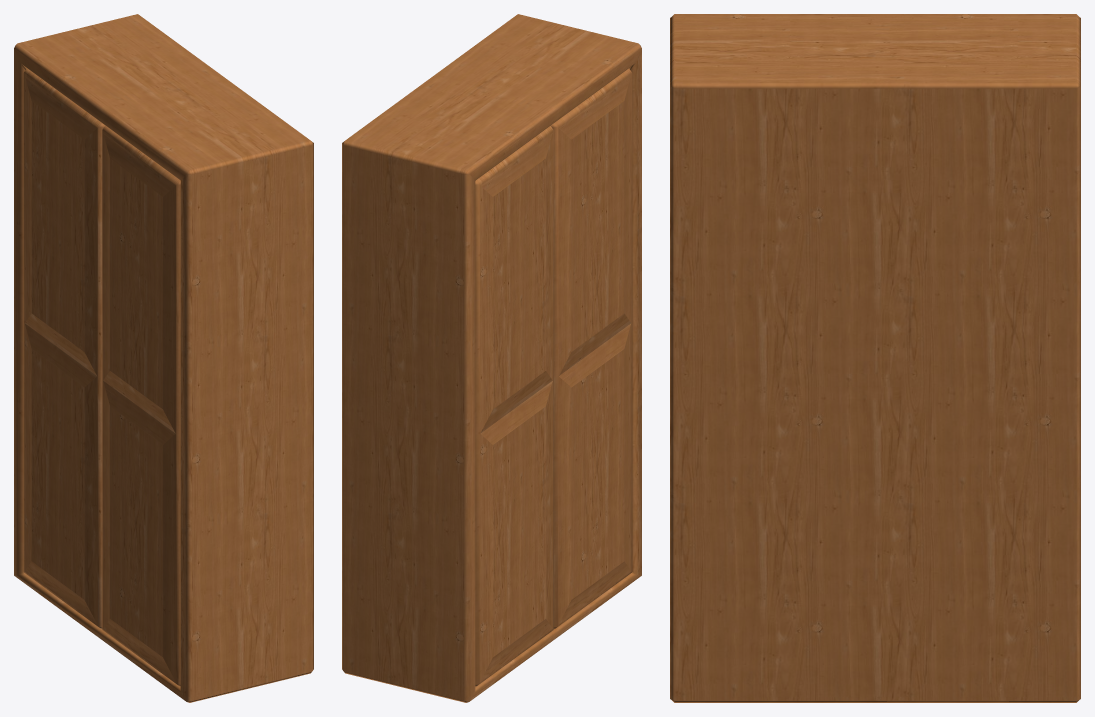
The model's file is shop_tall_display.glb.
The picture shows the model from 3 angles, left to right: view 1: azimuth 30°, elevation 25°; view 2: azimuth 150°, elevation 25°; view 3: azimuth 270°, elevation 25°; orthographic projection. The views are drawn at different scales.
Visible parts, largest first — view 1: shop_tall_display; view 2: shop_tall_display; view 3: shop_tall_display.
Part boxes in pixels (left/top/right/bottom): shop_tall_display: left=14, top=14, right=313, bottom=702; shop_tall_display: left=342, top=14, right=641, bottom=702; shop_tall_display: left=670, top=14, right=1080, bottom=702.
Bounding box in the file's own units: 0.4603 × 1.8 × 1.08.
Materials: 1 (1 with a texture image).
